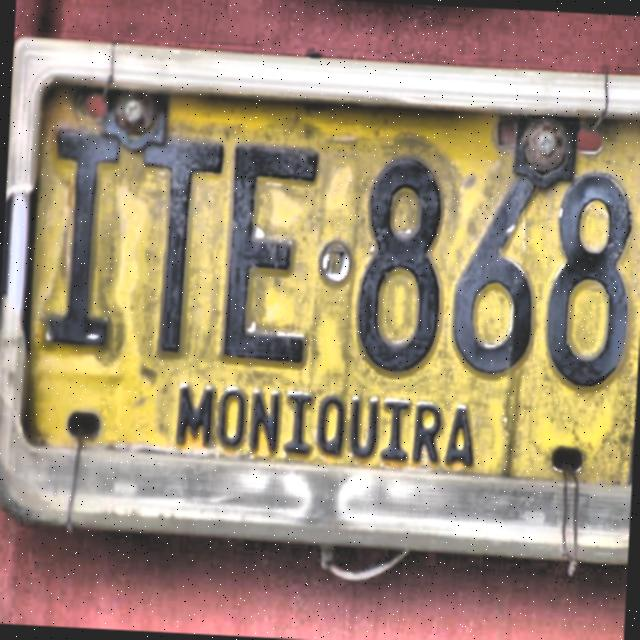plate: (22, 81, 640, 485)
